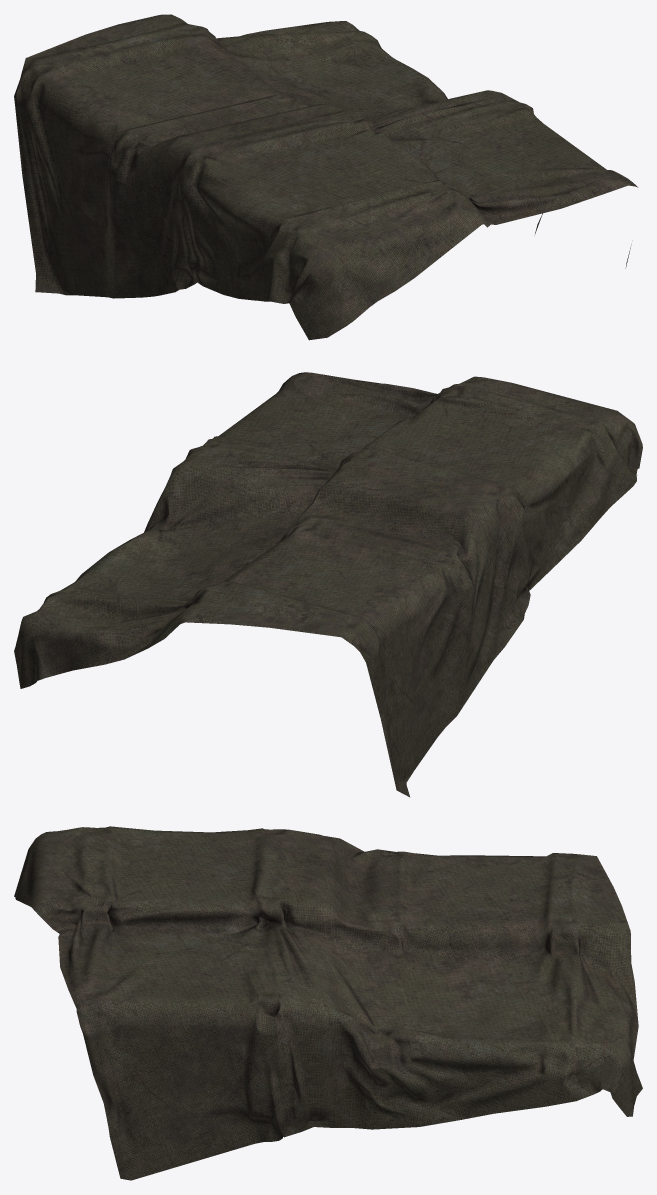
The model's file is SM_AmmoCrateCloth_01.glb.
3 views of the same model, one above another, from view 1: azimuth 30°, elevation 25°; view 2: azimuth 150°, elevation 25°; view 3: azimuth 270°, elevation 25° (orthographic). The views are drawn at different scales.
Parts seen in each view (by area): view 1: SM_AmmoCrateCloth_01; view 2: SM_AmmoCrateCloth_01; view 3: SM_AmmoCrateCloth_01.
Part boxes in pixels (bbox=[...]): SM_AmmoCrateCloth_01: bbox=[14, 14, 638, 340]; SM_AmmoCrateCloth_01: bbox=[14, 372, 642, 797]; SM_AmmoCrateCloth_01: bbox=[14, 826, 642, 1180].
Bounding box in the file's own units: 1.59 × 0.9071 × 2.42.
1 material, 1 textured.
